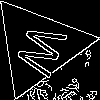W: (13, 21, 77, 83)
